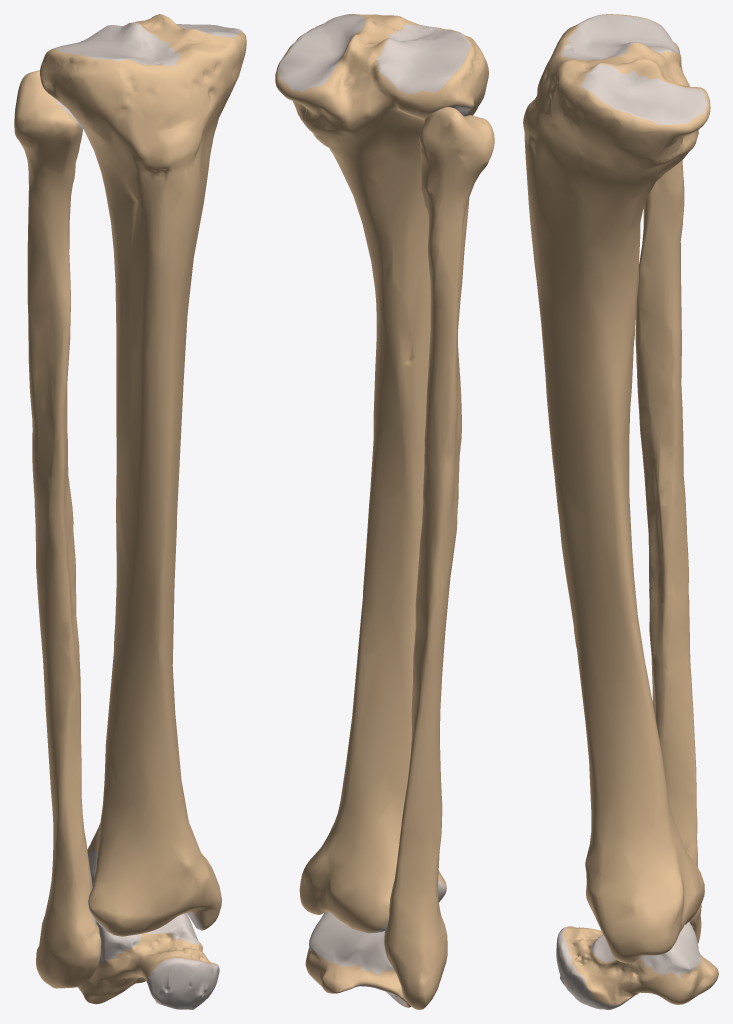
Rendered from bones.glb.
3 renders of one model, left to right at view 1: azimuth 30°, elevation 25°; view 2: azimuth 150°, elevation 25°; view 3: azimuth 270°, elevation 25°, orthographic. The views are drawn at different scales.
Visible parts, largest first — view 1: Tibia.r, Fibula.r, Talus.r; view 2: Tibia.r, Fibula.r, Talus.r; view 3: Tibia.r, Fibula.r, Talus.r.
Boxes of the visible parts, left/top/right/bottom form: Tibia.r: left=40, top=14, right=246, bottom=936; Fibula.r: left=14, top=70, right=101, bottom=988; Talus.r: left=78, top=913, right=219, bottom=1009; Tibia.r: left=275, top=14, right=488, bottom=933; Fibula.r: left=384, top=107, right=494, bottom=1009; Talus.r: left=305, top=911, right=410, bottom=1007; Tibia.r: left=523, top=14, right=710, bottom=963; Fibula.r: left=635, top=42, right=701, bottom=943; Talus.r: left=556, top=922, right=718, bottom=1009.
Bounding box in the file's own units: 0.0876 × 0.3834 × 0.0713.
